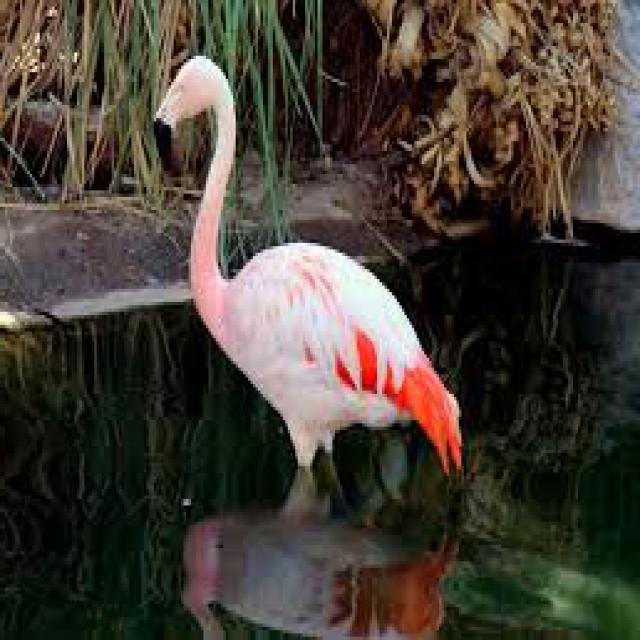flamingo: (156, 56, 459, 515)
